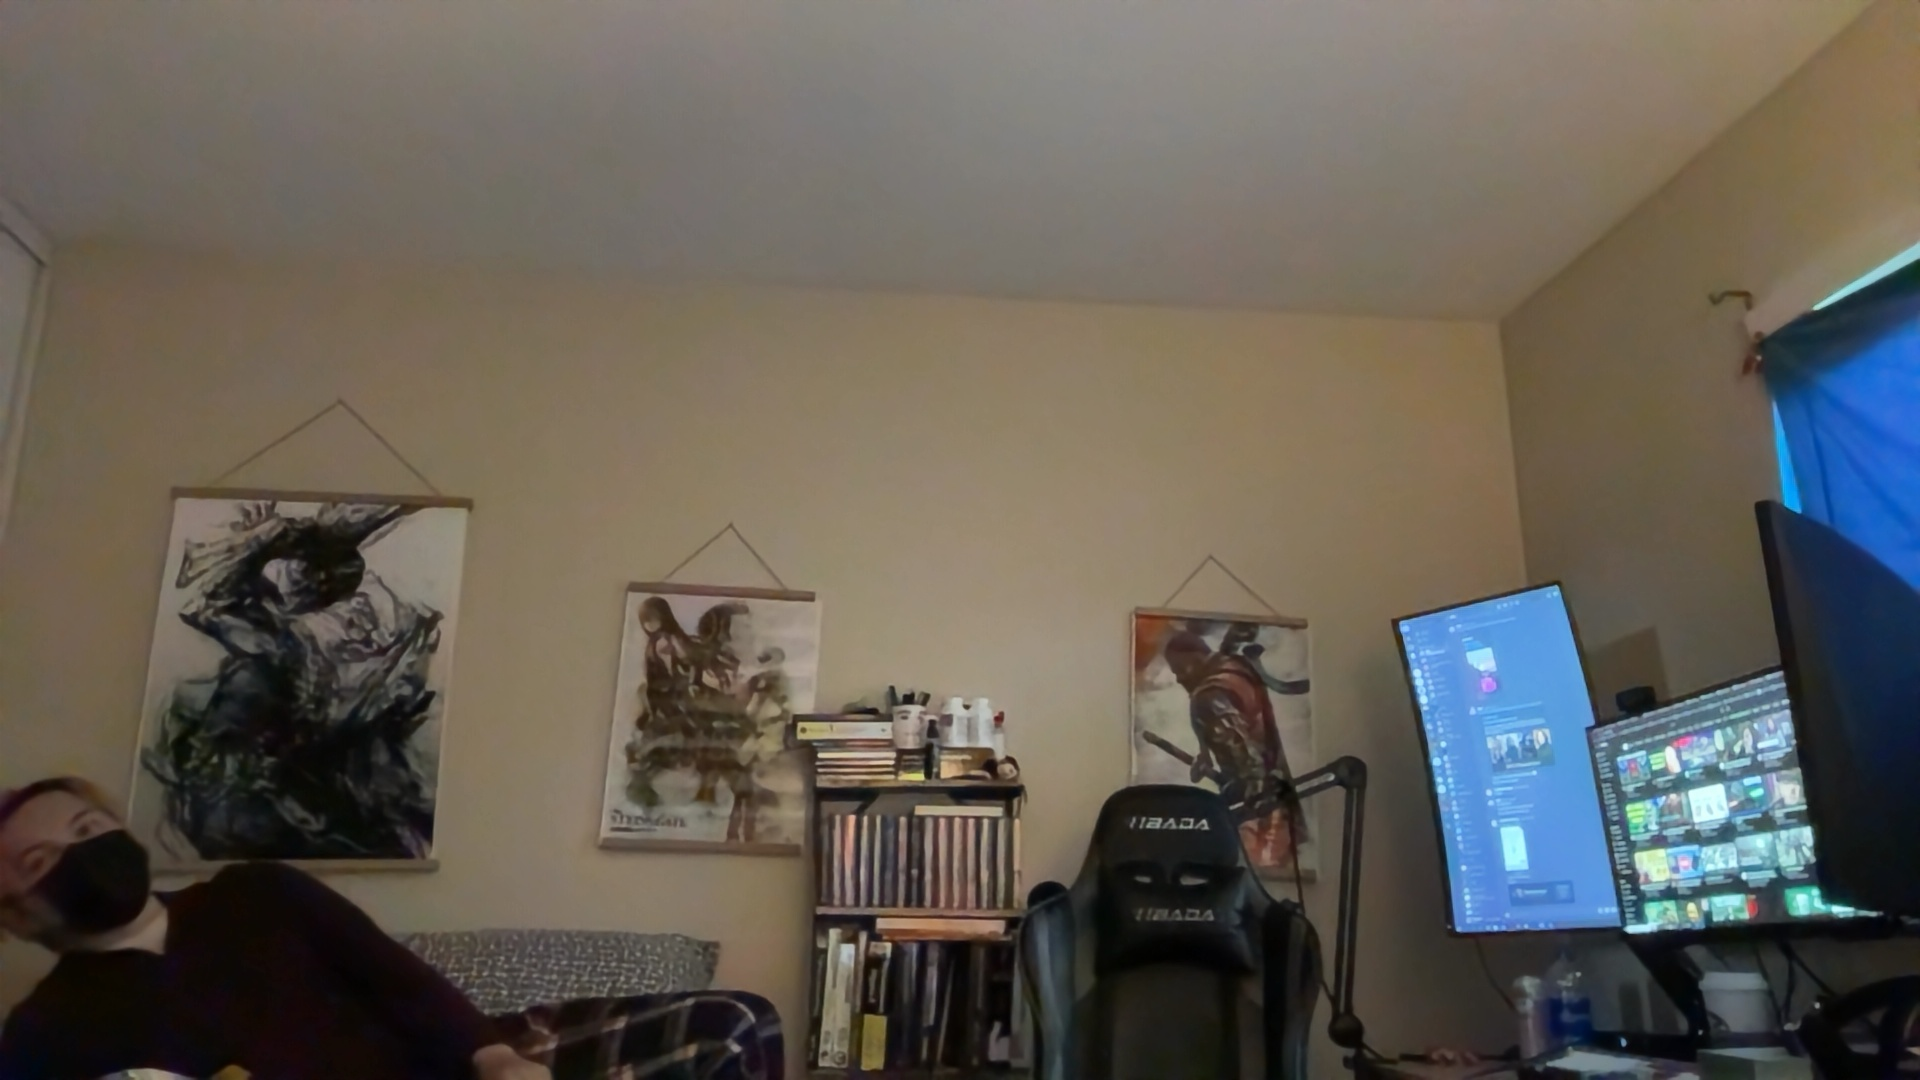masked: (9, 796, 150, 938)
